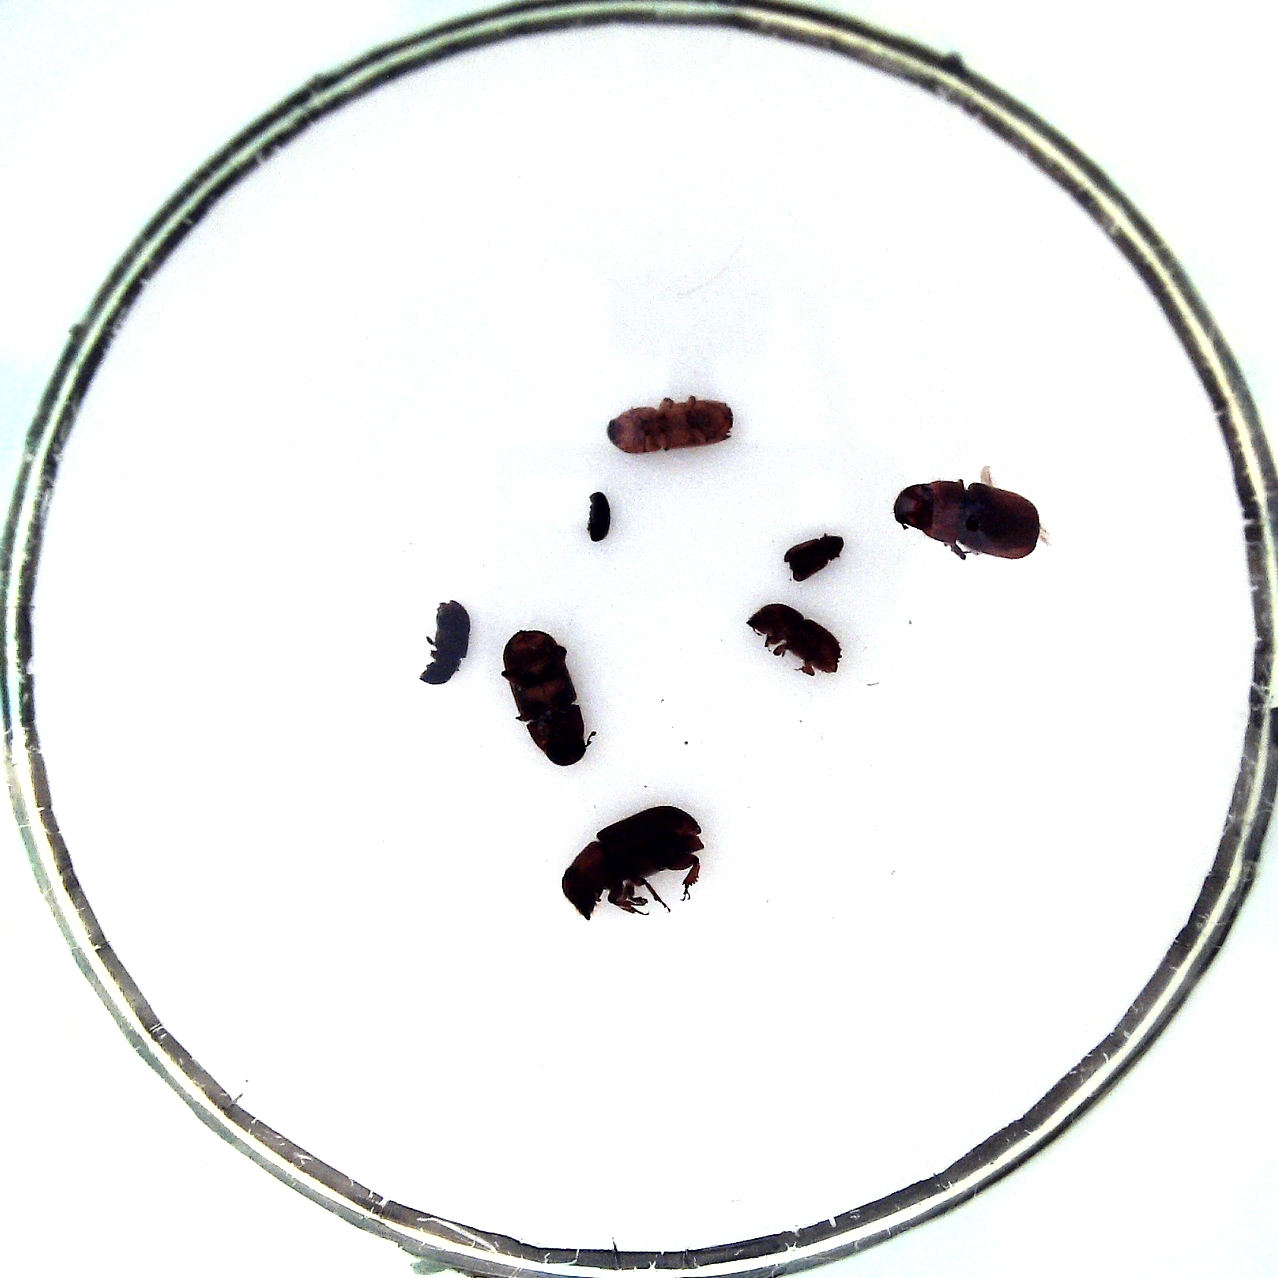Boerner: (609, 401, 734, 455)
Leconte: (561, 806, 705, 920), (502, 628, 588, 767), (893, 479, 1040, 558)
acuminatus: (588, 492, 610, 543)
armandi: (418, 599, 469, 685)
coleoptera: (784, 535, 844, 580)
linnaeus: (745, 604, 841, 675)
